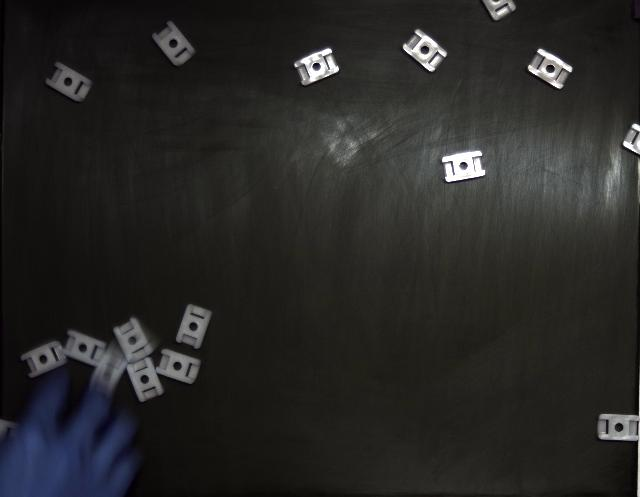second_side: (152, 21, 196, 66), (402, 29, 448, 72), (45, 62, 92, 102), (528, 49, 572, 89), (294, 49, 339, 85), (156, 349, 201, 385), (176, 305, 212, 349), (442, 151, 485, 182)
